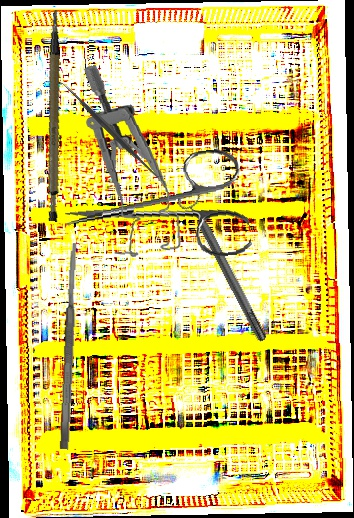Fixation Ring: (174, 185, 274, 347)
Iris Scissors: (59, 146, 253, 275)
Scalpel Handle: (20, 9, 93, 223)
Spatula Surgical: (54, 74, 168, 187), (58, 242, 81, 450)
Speculum: (81, 59, 183, 260)
